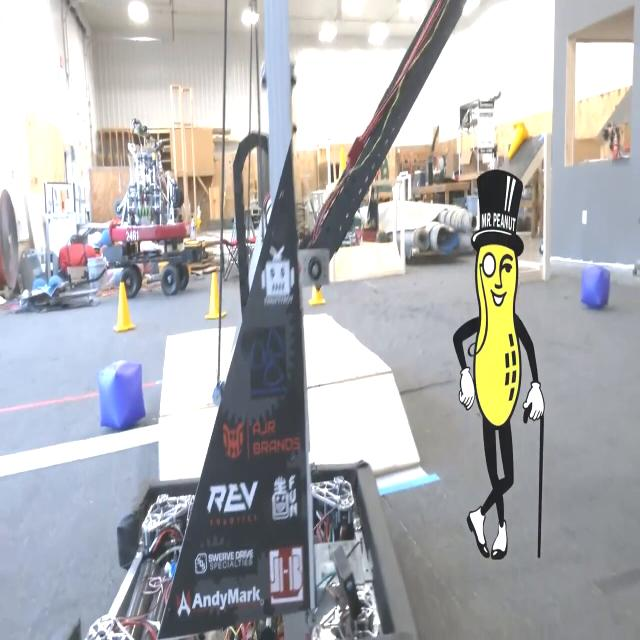frc_cone: (116, 279, 134, 337), (209, 272, 226, 321), (309, 271, 328, 303)
frc_cube: (96, 360, 144, 433), (582, 260, 610, 311)
